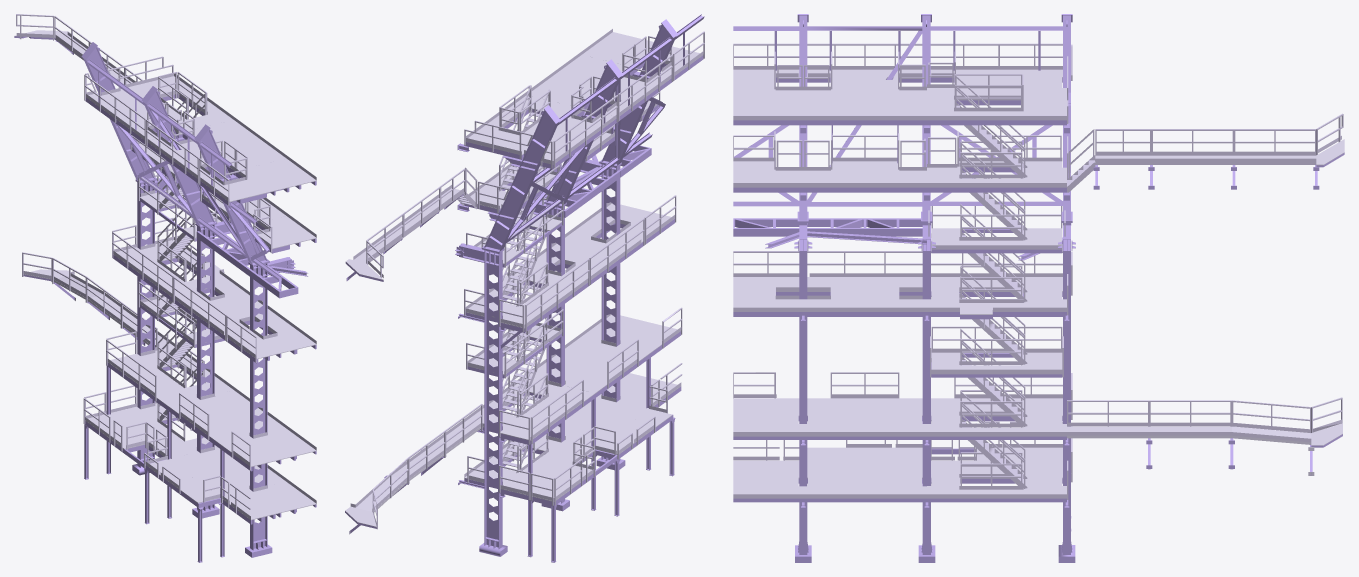
Rendered from HS-US-cut1.glb.
3 renders of one model, left to right at view 1: azimuth 30°, elevation 25°; view 2: azimuth 150°, elevation 25°; view 3: azimuth 270°, elevation 25°, orthographic. The views are drawn at different scales.
Parts seen in each view (by area): view 1: _00000261B3AE9B30_IndexedFaceSet, _00000261A0F108F0_IndexedFaceSet, _00000261A0F0F930_IndexedFaceSet; view 2: _00000261B3AE9B30_IndexedFaceSet, _00000261A0F108F0_IndexedFaceSet, _00000261A0F0F930_IndexedFaceSet; view 3: _00000261B3AE9B30_IndexedFaceSet, _00000261A0F0F930_IndexedFaceSet, _00000261A0F108F0_IndexedFaceSet.
Part boxes in pixels (x1,y1,x2,y2): _00000261B3AE9B30_IndexedFaceSet: (14, 30, 316, 520); _00000261A0F108F0_IndexedFaceSet: (14, 35, 316, 562); _00000261A0F0F930_IndexedFaceSet: (16, 14, 316, 519); _00000261B3AE9B30_IndexedFaceSet: (345, 32, 702, 534); _00000261A0F108F0_IndexedFaceSet: (345, 14, 704, 562); _00000261A0F0F930_IndexedFaceSet: (350, 29, 704, 529); _00000261B3AE9B30_IndexedFaceSet: (733, 69, 1344, 494); _00000261A0F0F930_IndexedFaceSet: (733, 43, 1343, 499); _00000261A0F108F0_IndexedFaceSet: (733, 14, 1344, 562).
Bounding box in the file's own units: 4.7 × 20.65 × 22.26.
